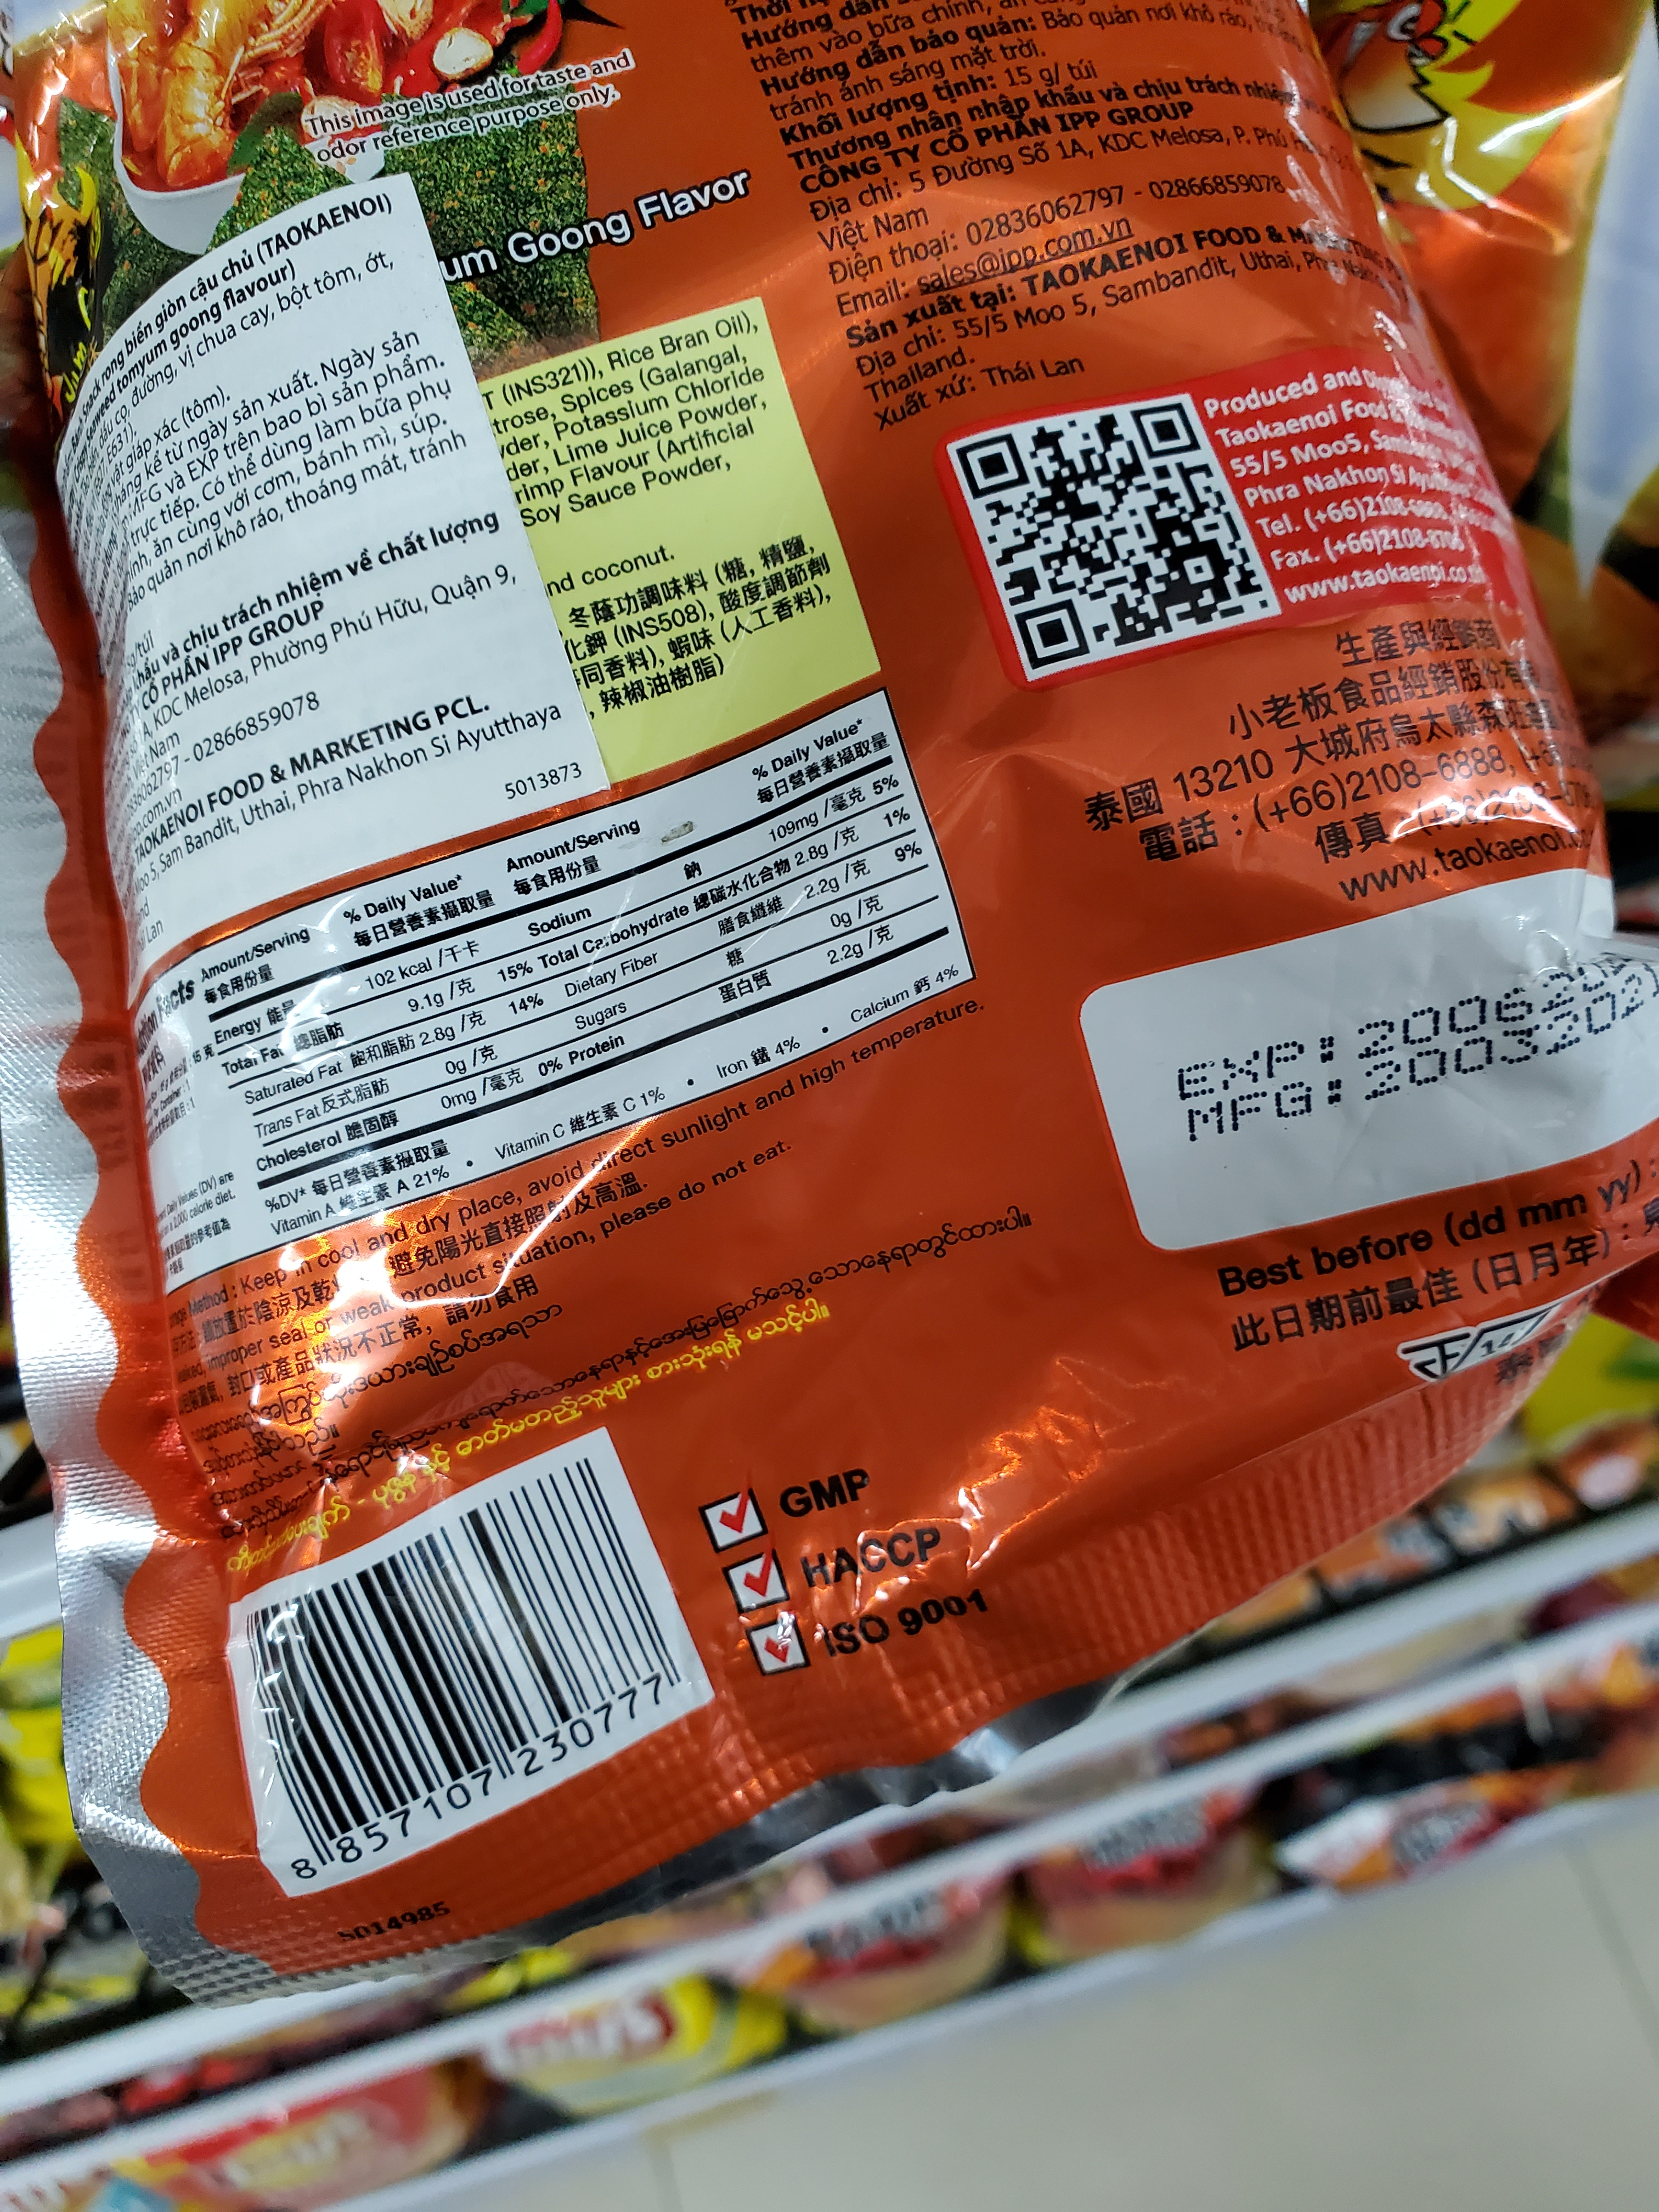BARCODE: (145, 1437, 716, 1888)
QR CODE: (946, 388, 1281, 691)
